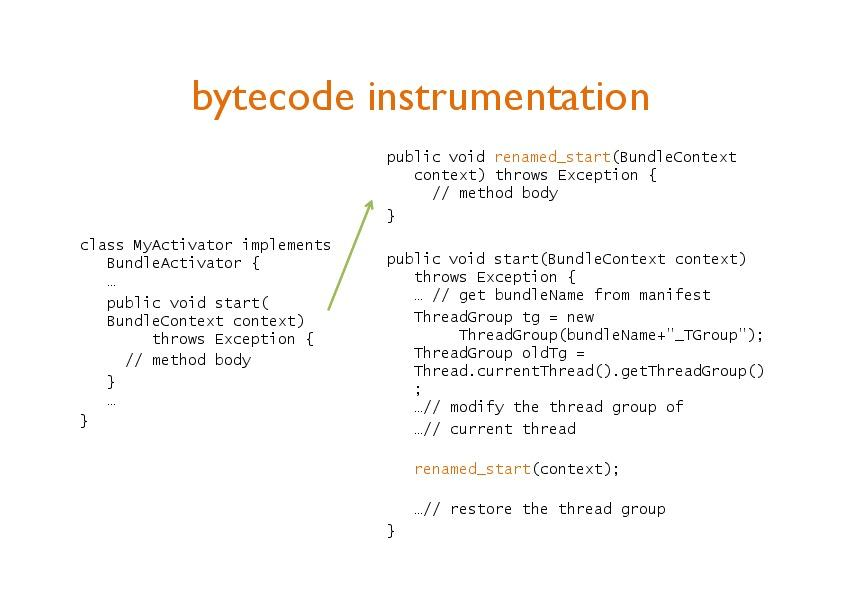paragraph: (53, 138, 793, 565)
title: (177, 67, 671, 132)
